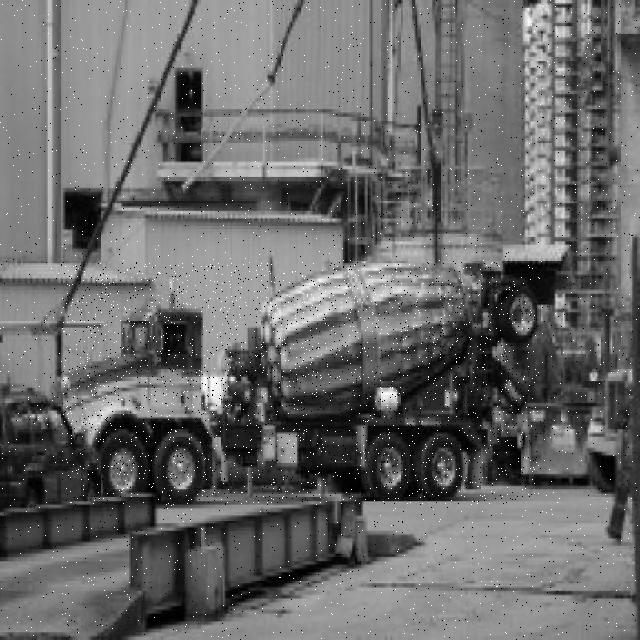Concrete Mixer: (61, 262, 539, 504)
